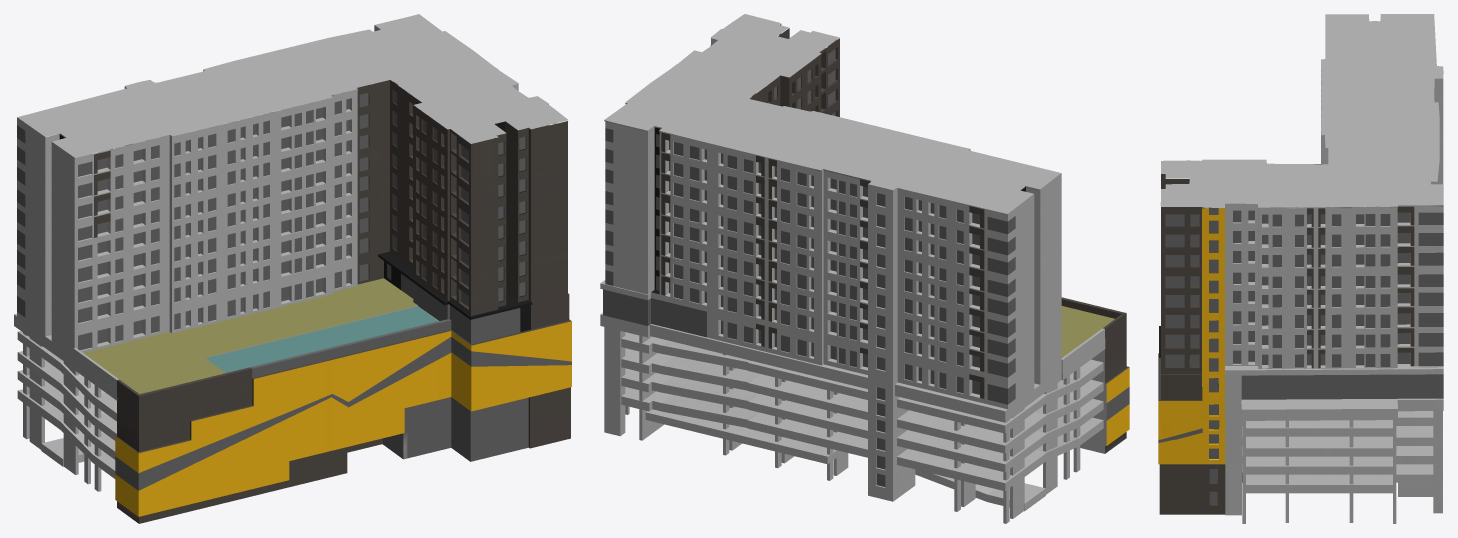
Rendered from final_cut9.glb.
The picture shows the model from 3 angles, left to right: view 1: azimuth 30°, elevation 25°; view 2: azimuth 150°, elevation 25°; view 3: azimuth 270°, elevation 25°; orthographic projection. The views are drawn at different scales.
Parts seen in each view (by area): view 1: cut:pPlane3 (×8); view 2: cut:pPlane3 (×8); view 3: cut:pPlane3 (×6).
Boxes of the visible parts, x1=… form: cut:pPlane3 (×8): x1=14, y1=14, x2=571, y2=523; cut:pPlane3 (×8): x1=600, y1=14, x2=1129, y2=523; cut:pPlane3 (×6): x1=1158, y1=14, x2=1443, y2=523.
Size of the model in its own units: 4.69 by 3.31 by 2.77.
Materials: 11 (11 with a texture image).
